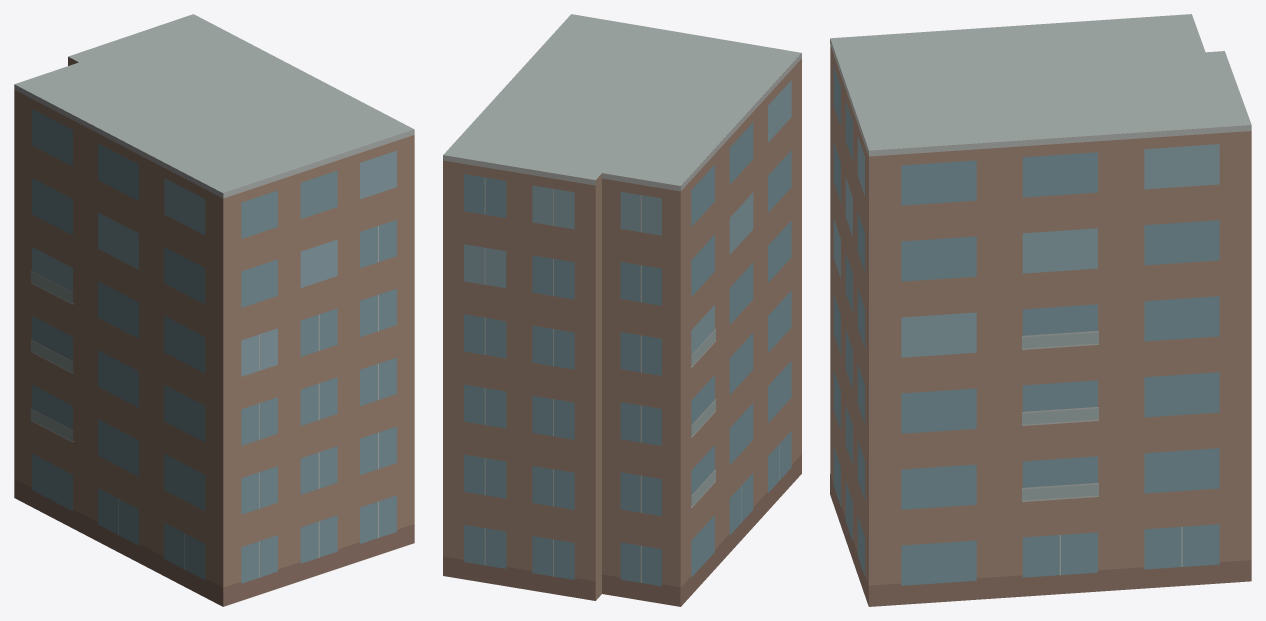
The model's file is survey-upis-32746714.glb.
3 renders of one model, left to right at view 1: azimuth 30°, elevation 25°; view 2: azimuth 150°, elevation 25°; view 3: azimuth 270°, elevation 25°, orthographic. The views are drawn at different scales.
Visible parts, largest first — view 1: survey-upis-32746714.tmp; view 2: survey-upis-32746714.tmp; view 3: survey-upis-32746714.tmp.
Boxes of the visible parts, x1,y1,x2,y2 form: survey-upis-32746714.tmp: (14,14,414,606); survey-upis-32746714.tmp: (443,14,801,606); survey-upis-32746714.tmp: (830,14,1251,606).
Size of the model in its own units: 12.22 by 19 by 15.93.
